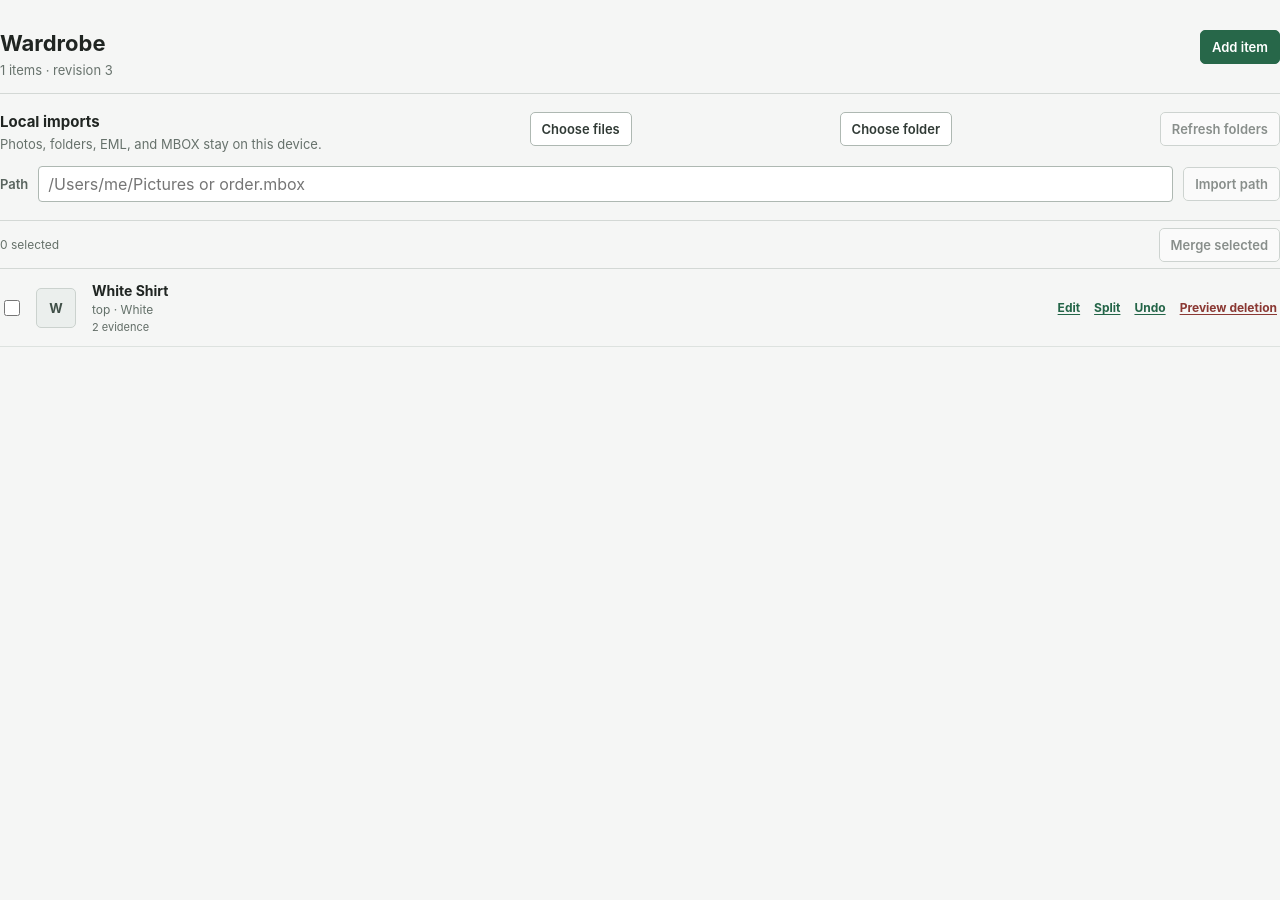
Test: P02 workspace › reuses deletion request authority after an uncertain transport error
Click the button "Preview deletion": click(1228, 308) [1177,297,1279,318]
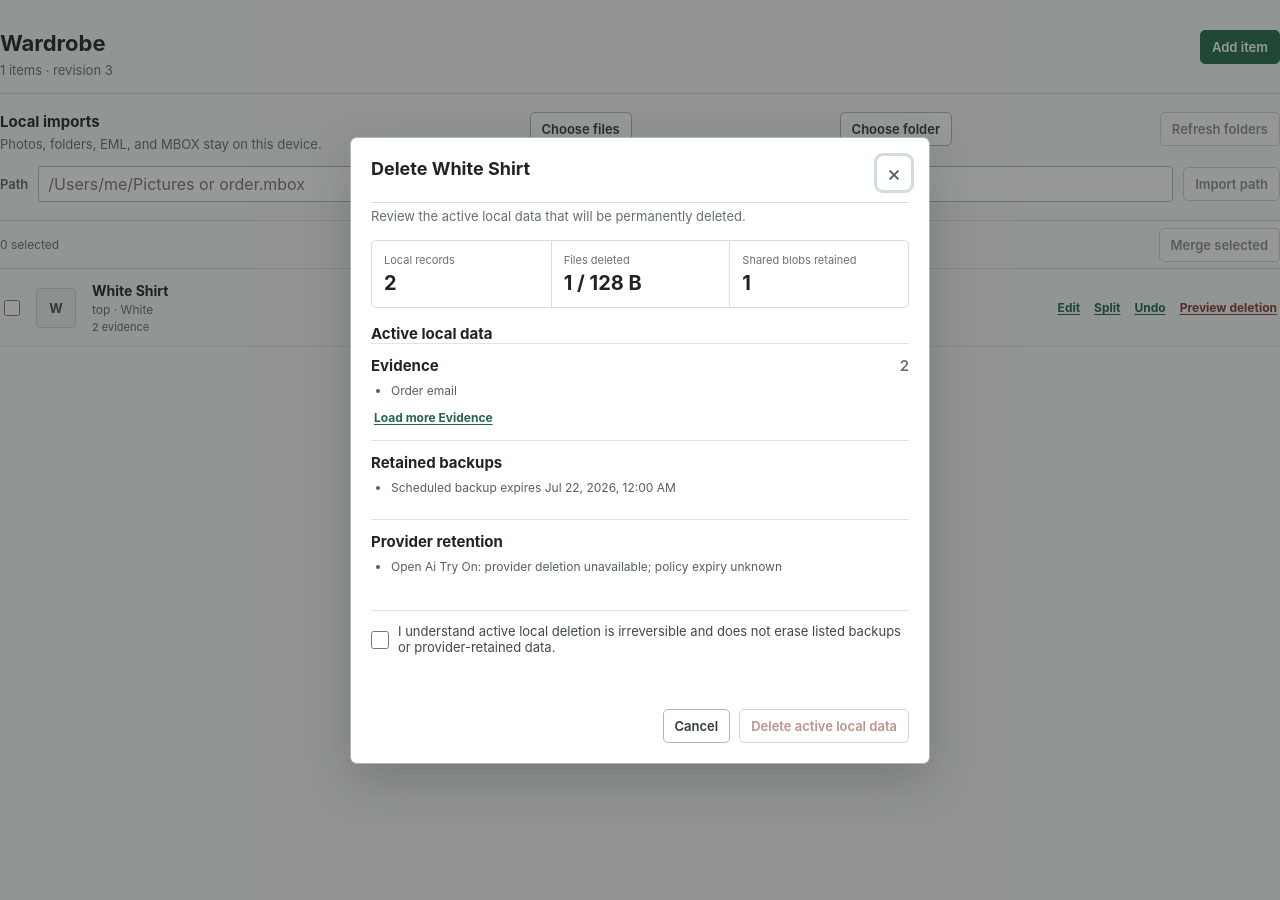
Click the checkbox labelled "active local deletion is irreversible": click(380, 640) [371,624,389,654]
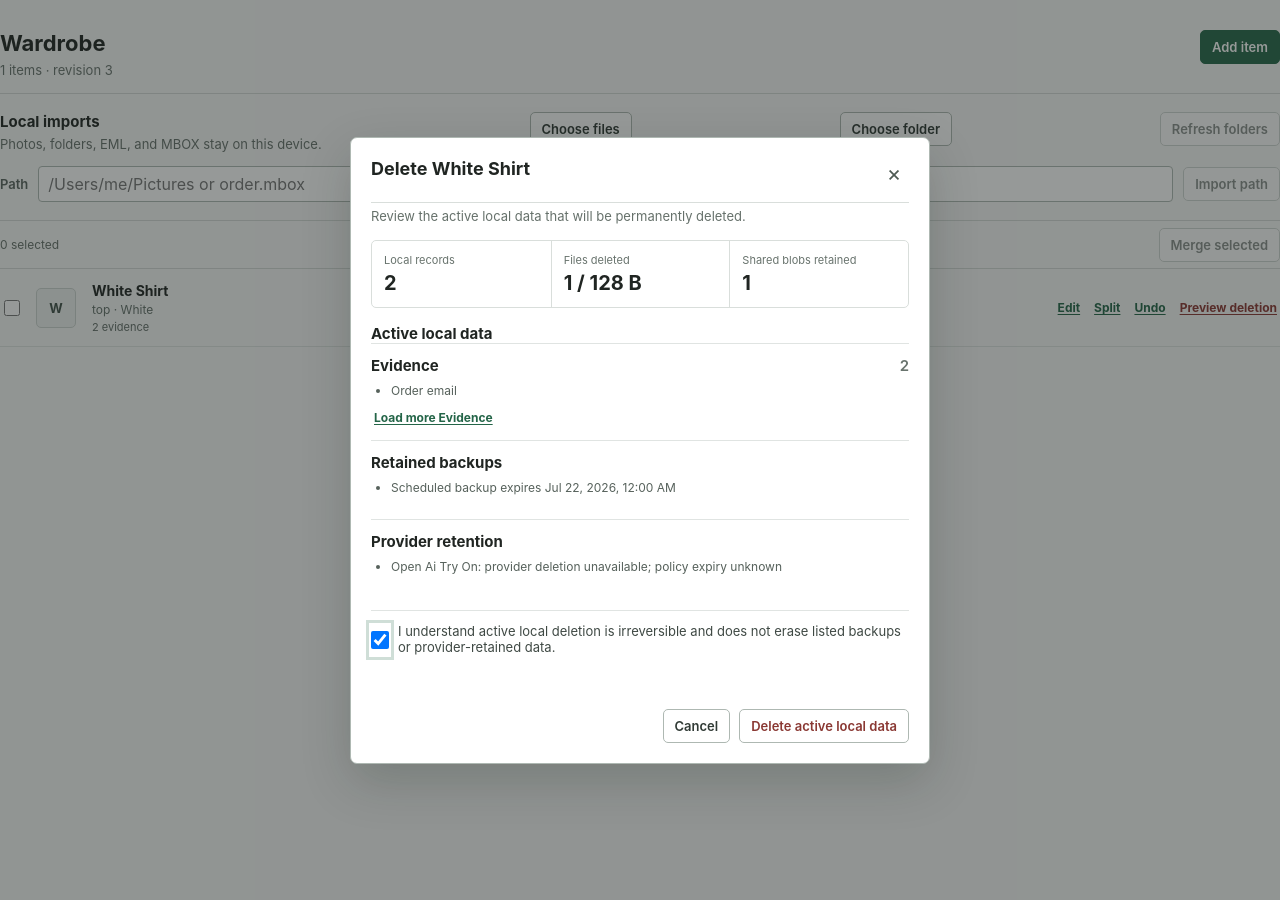
Click the button "Delete active local data": click(824, 726) [739,708,909,742]
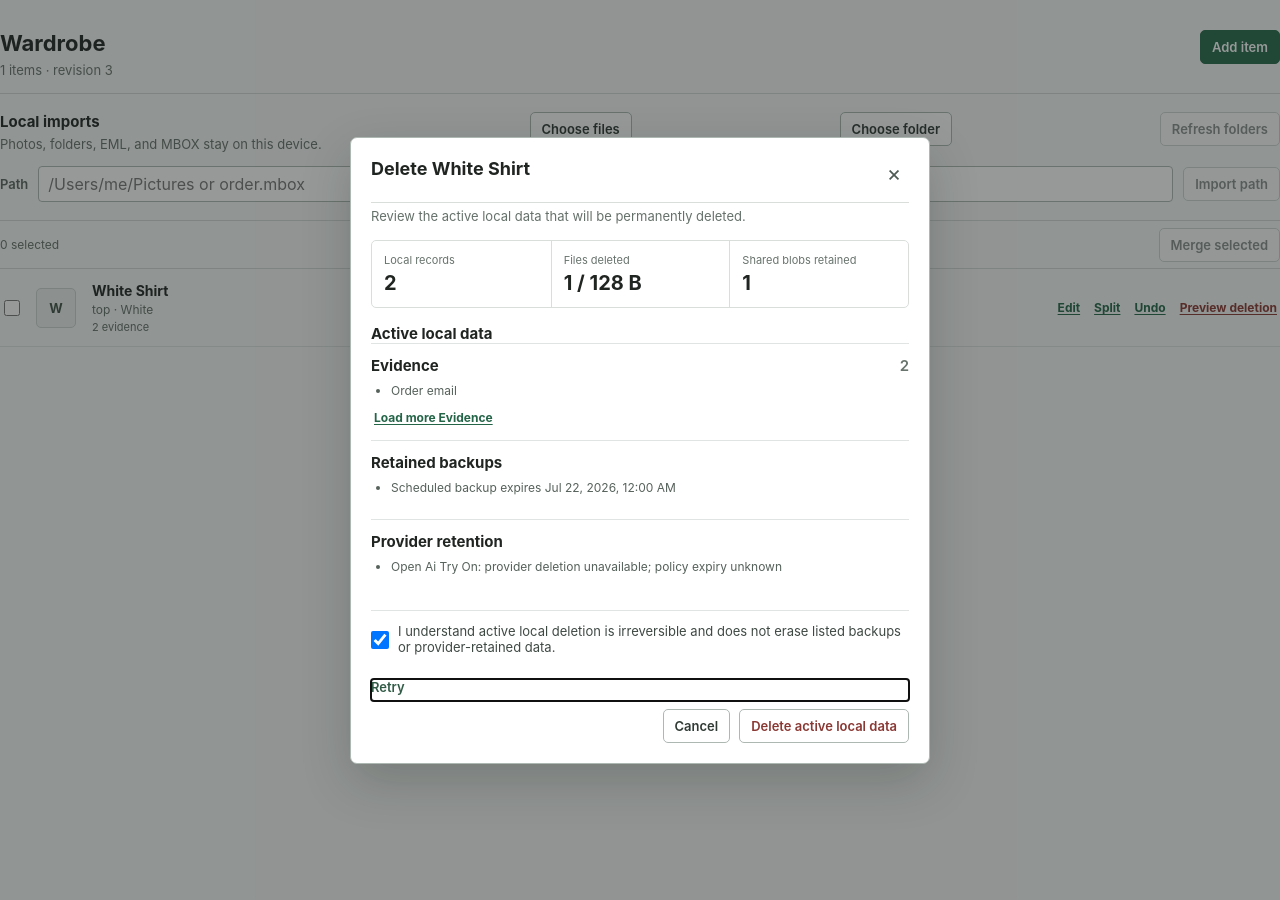
Result: the text "Retry" is shown at [371,678,405,694]
Click the button "Delete active local data": click(824, 726) [739,708,909,742]
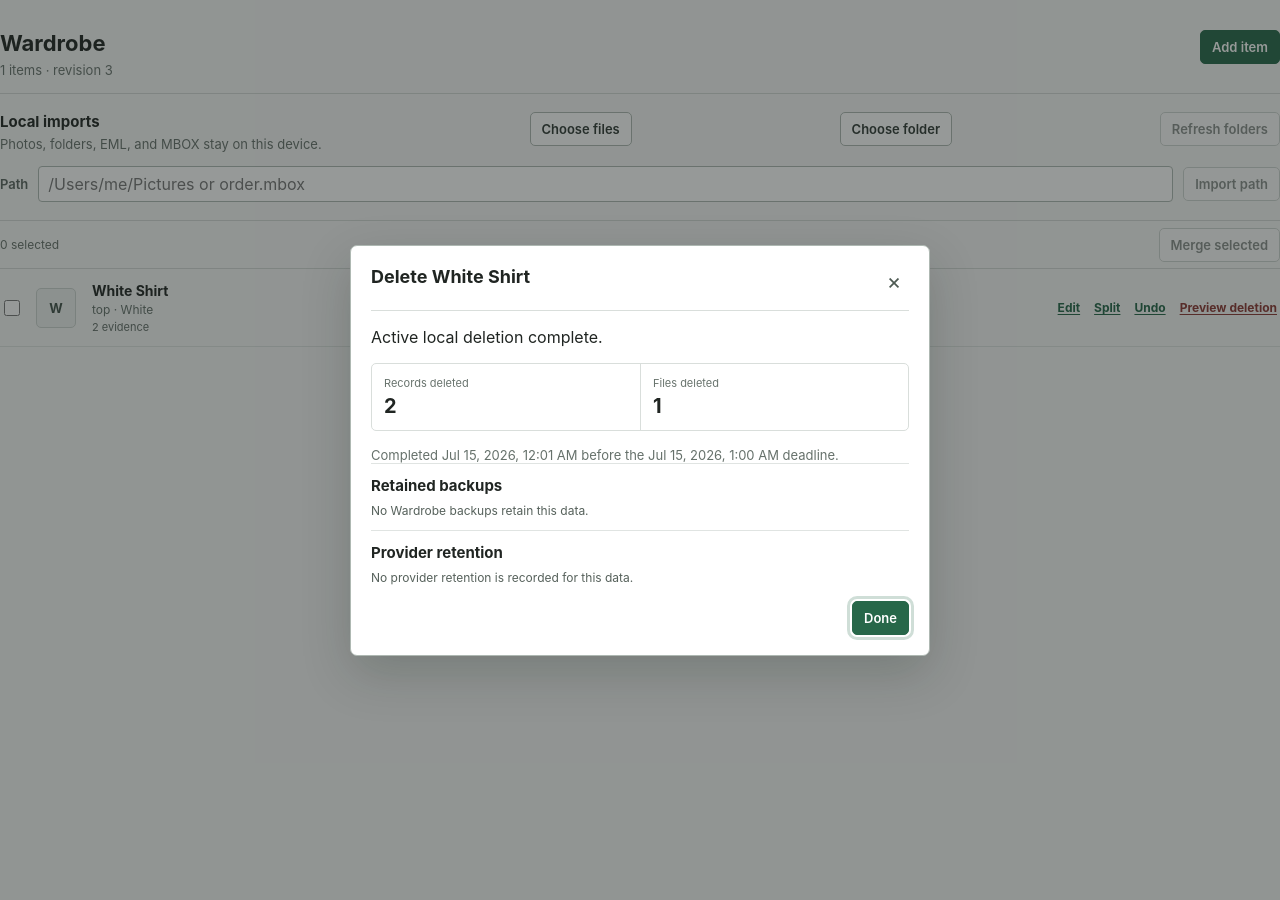
Result: the text "Active local deletion complete." is shown at [371,326,603,346]
